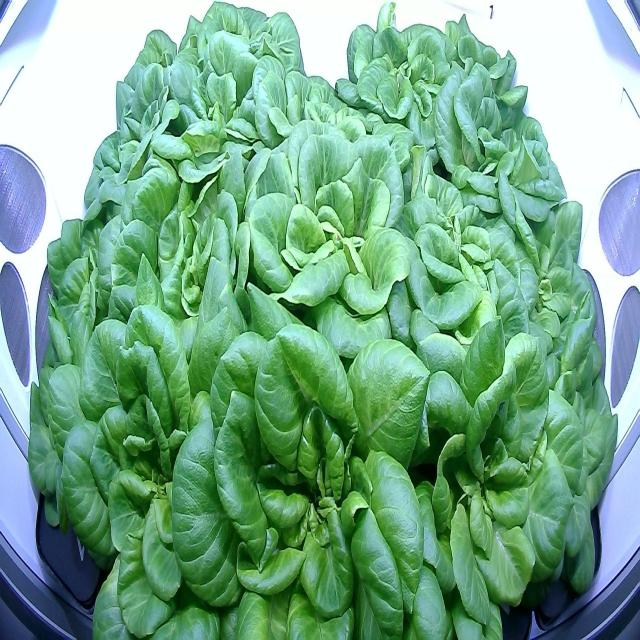Ready: (164, 320, 434, 638), (55, 296, 258, 635), (399, 312, 574, 638), (240, 113, 423, 365), (492, 322, 625, 616), (385, 150, 566, 363), (104, 156, 254, 375), (472, 188, 609, 407), (23, 304, 139, 548), (39, 206, 167, 386), (335, 0, 477, 154), (80, 64, 209, 232), (411, 60, 534, 226), (453, 105, 584, 256), (160, 35, 274, 196), (175, 0, 303, 143), (258, 68, 415, 178), (112, 10, 212, 134), (442, 0, 529, 130)
